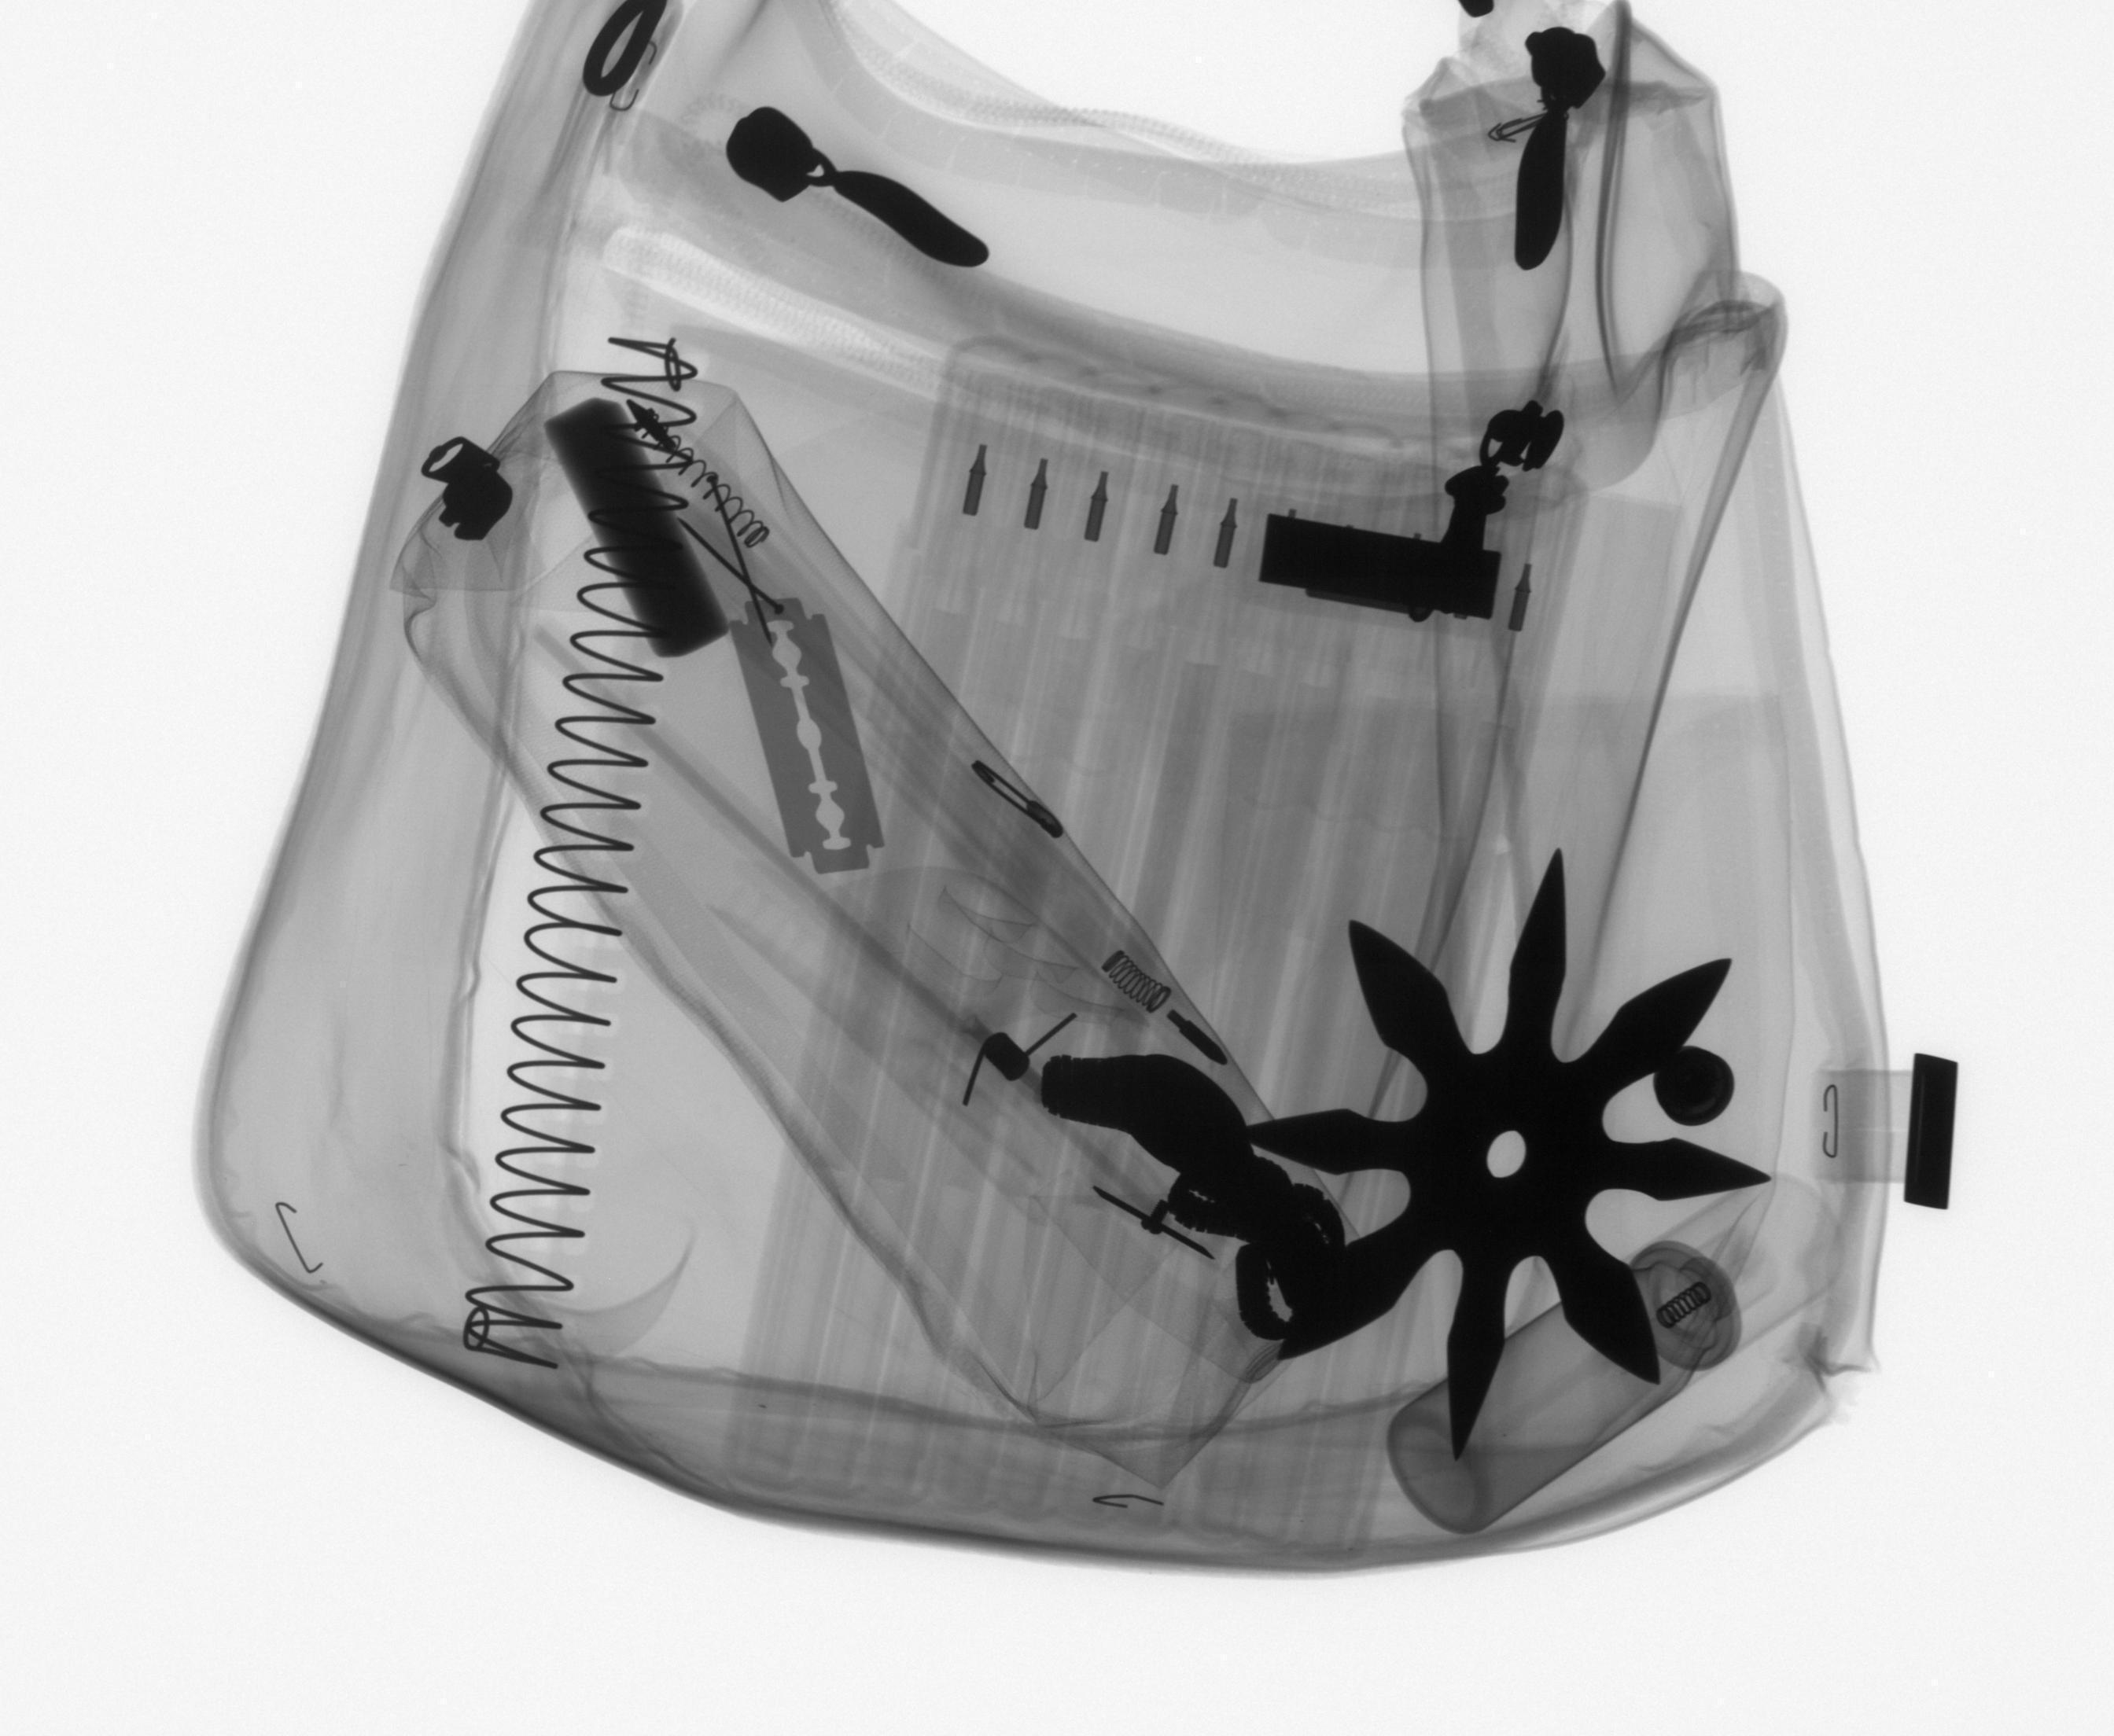RazorBlade: (723, 590, 890, 885)
Shuriken: (1236, 844, 1782, 1471)
